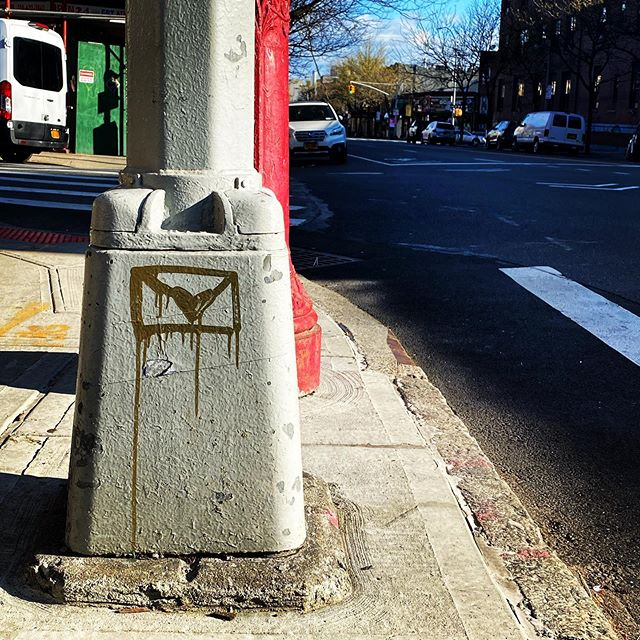building: (496, 1, 640, 125)
car: (280, 93, 352, 158)
crosswalk: (5, 148, 121, 224)
graffiti: (110, 248, 261, 352)
street: (331, 153, 640, 640)
van: (521, 109, 585, 161)
